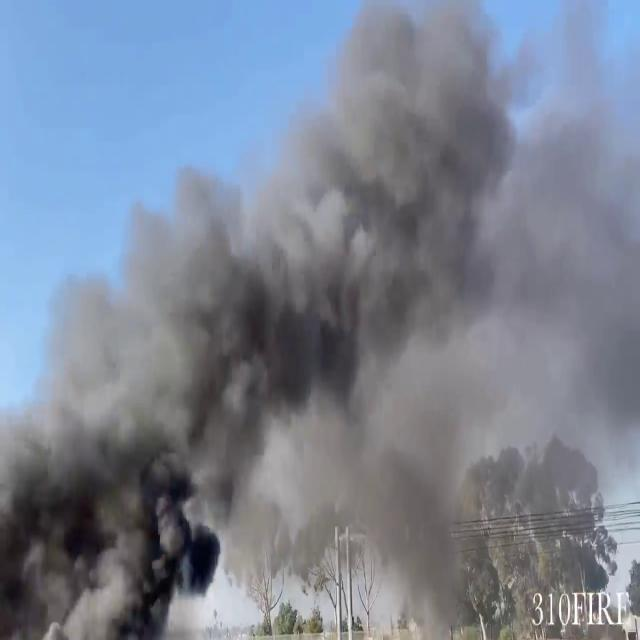Smoke: (2, 0, 638, 633)
